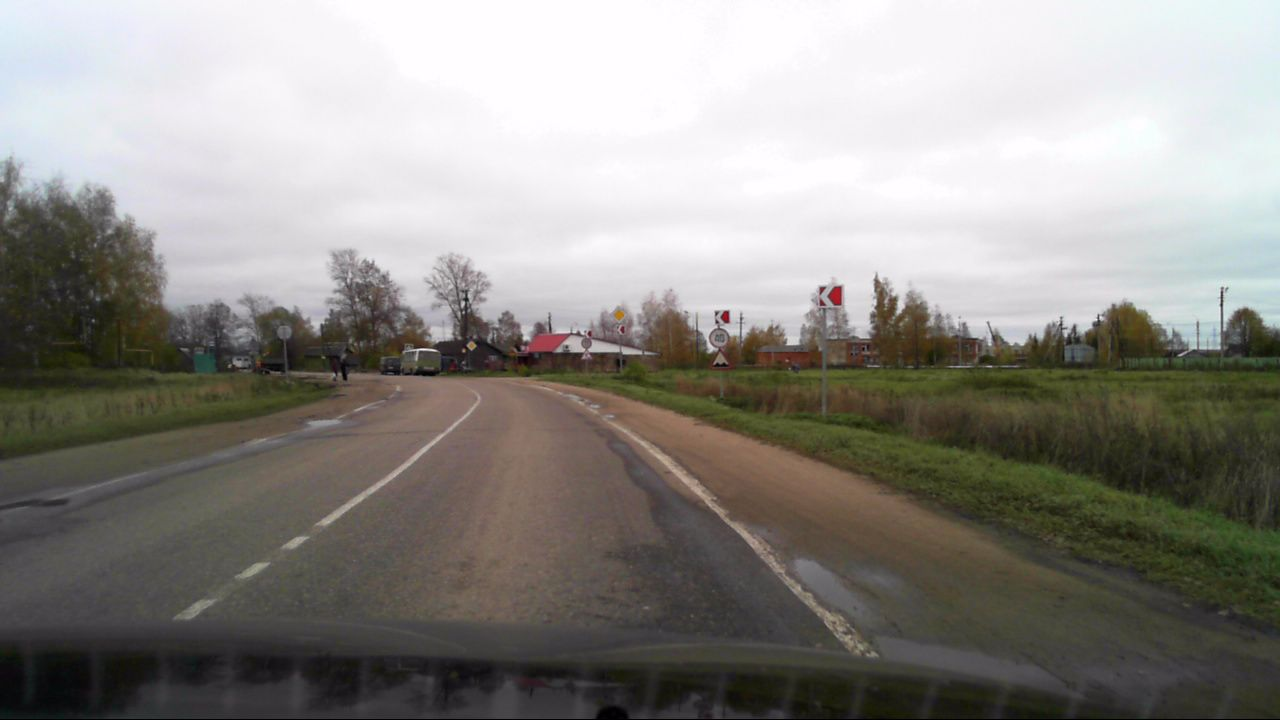speed_warning_40: (708, 327, 730, 348)
